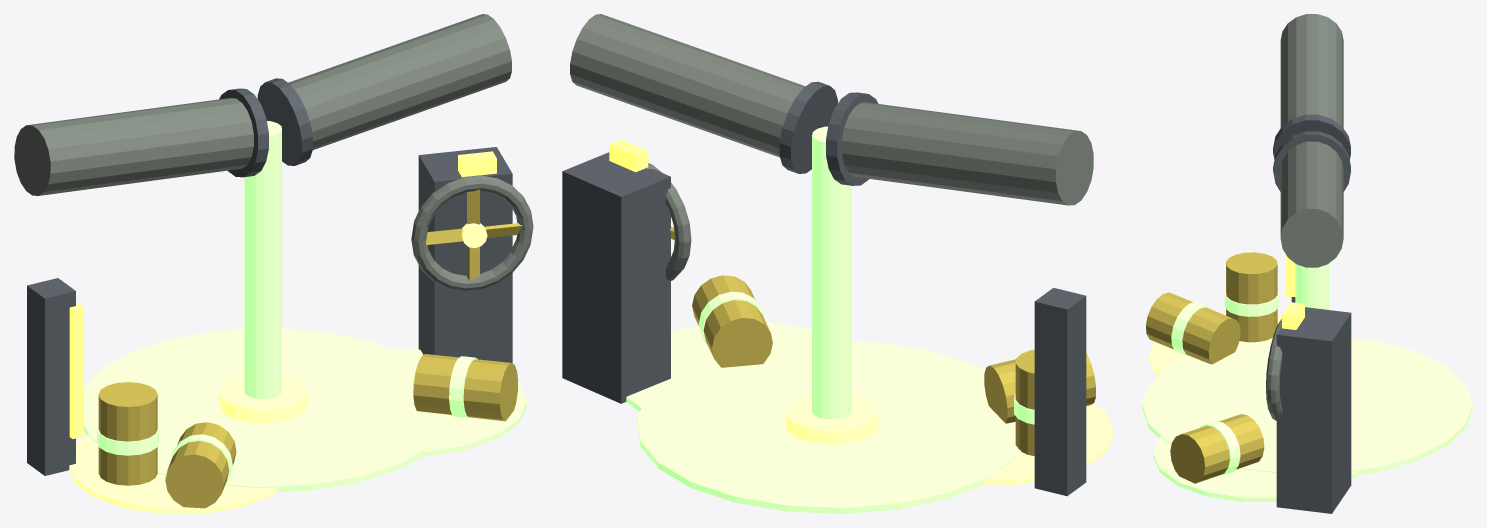
File: node_event_toxic_spill.glb
The picture shows the model from 3 angles, left to right: view 1: azimuth 30°, elevation 25°; view 2: azimuth 150°, elevation 25°; view 3: azimuth 270°, elevation 25°; orthographic projection. The views are drawn at different scales.
Parts seen in each view (by area): view 1: AcidPool_0, OverheadMainPipeL, OverheadMainPipeR, DeconHousingR, AcidWaterfallCore, ContainmentPostL, BioDrum_R1, BioDrum_L1, DeconShroudRing, AcidPool_1, BioDrum_L2, PipeFlangeR (+7 smaller); view 2: AcidPool_0, DeconHousingR, OverheadMainPipeL, OverheadMainPipeR, ContainmentPostL, AcidWaterfallCore, BioDrum_R1, PipeFlangeR, AcidSplashCollar, AcidPool_2, AcidPool_1, BioDrum_L2 (+5 smaller); view 3: AcidPool_0, DeconHousingR, OverheadMainPipeR, OverheadMainPipeL, BioDrum_R1, BioDrum_L2, BioDrum_L1, AcidPool_2, AcidWaterfallCore, PipeFlangeL, PipeFlangeR, DeconShroudRing (+5 smaller).
Part boxes in pixels (x1,y1,x2,y2): AcidPool_0: (84, 328, 451, 491); OverheadMainPipeL: (14, 98, 253, 195); OverheadMainPipeR: (288, 14, 511, 149); DeconHousingR: (418, 147, 512, 363); AcidWaterfallCore: (244, 121, 281, 399); ContainmentPostL: (27, 278, 75, 475); BioDrum_R1: (413, 354, 517, 421); BioDrum_L1: (98, 382, 157, 485); DeconShroudRing: (411, 175, 533, 290); AcidPool_1: (69, 435, 276, 513); BioDrum_L2: (165, 422, 236, 508); PipeFlangeR: (257, 78, 312, 165); AcidPool_0: (637, 341, 1021, 513); DeconHousingR: (562, 152, 670, 403); OverheadMainPipeL: (842, 102, 1093, 205); OverheadMainPipeR: (570, 14, 805, 157); ContainmentPostL: (1034, 287, 1086, 496); AcidWaterfallCore: (812, 126, 851, 419); BioDrum_R1: (692, 275, 772, 367); PipeFlangeR: (779, 81, 837, 173); AcidSplashCollar: (785, 393, 878, 444); AcidPool_2: (626, 322, 811, 411); AcidPool_1: (983, 403, 1113, 484); BioDrum_L2: (984, 353, 1095, 423); AcidPool_0: (1142, 337, 1472, 474); DeconHousingR: (1276, 307, 1351, 513); OverheadMainPipeR: (1280, 141, 1343, 267); OverheadMainPipeL: (1280, 14, 1343, 127); BioDrum_R1: (1170, 414, 1264, 483); BioDrum_L2: (1146, 292, 1240, 364); BioDrum_L1: (1226, 252, 1277, 342); AcidPool_2: (1153, 436, 1359, 501); AcidWaterfallCore: (1295, 263, 1328, 309); PipeFlangeL: (1273, 114, 1350, 159); PipeFlangeR: (1273, 131, 1350, 191); DeconShroudRing: (1266, 319, 1282, 420).
Bounding box in the file's own units: 5.25 × 3.57 × 3.56.
